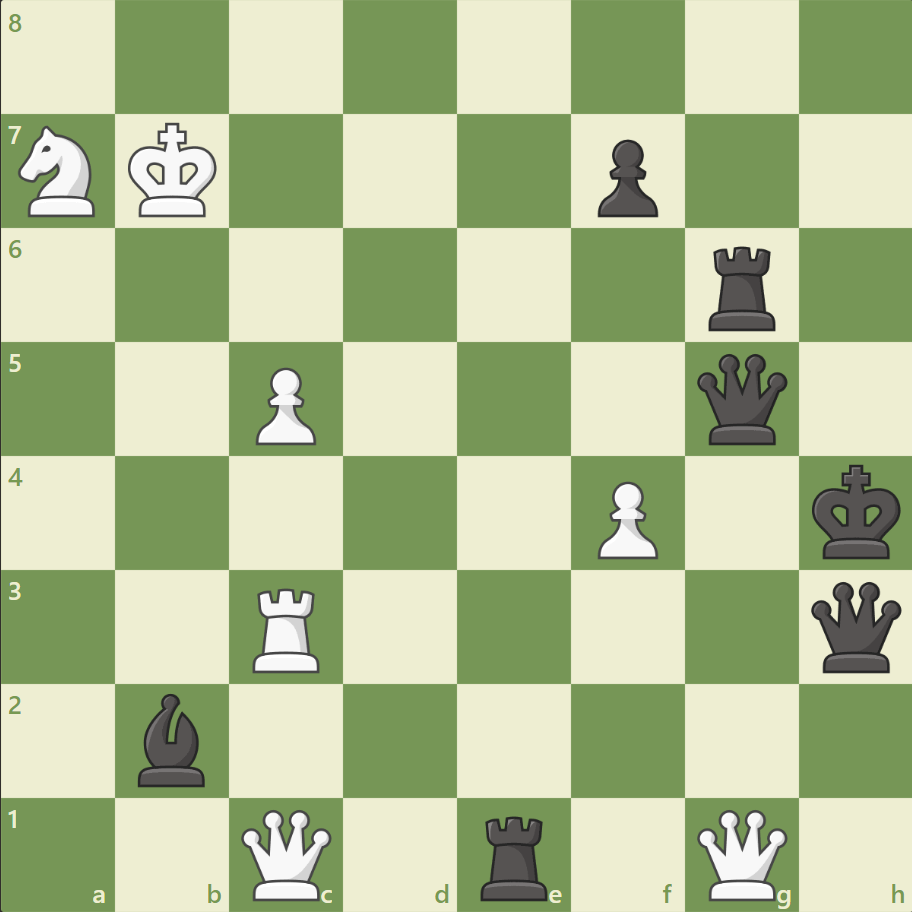K: (124, 117, 224, 225)
N: (11, 121, 108, 223)
P: (247, 359, 322, 450), (588, 473, 662, 564)
Q: (237, 804, 336, 903), (691, 804, 790, 903)
R: (246, 579, 329, 676)
b: (131, 687, 215, 790)
k: (806, 458, 906, 566)
p: (588, 132, 662, 223)
q: (691, 349, 790, 449), (805, 576, 904, 676)
r: (473, 806, 556, 904), (700, 239, 783, 336)
